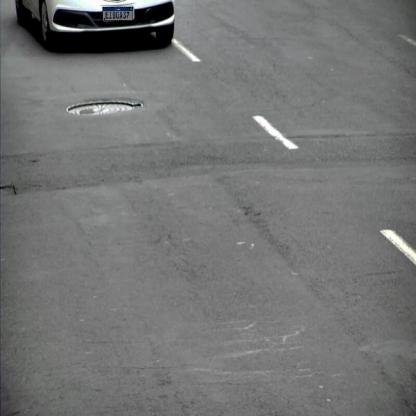PlacaM: (103, 7, 133, 21)
